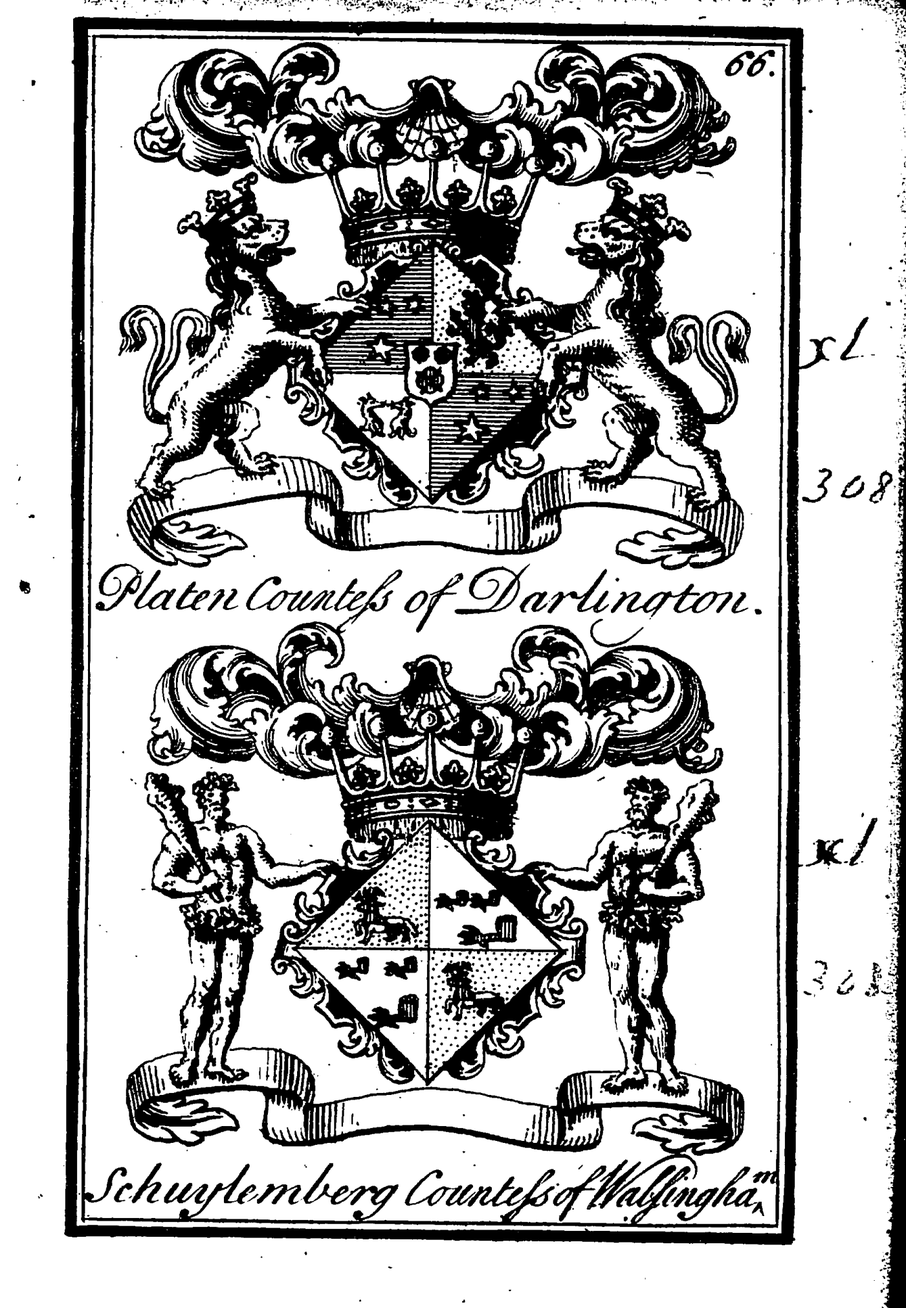coat_of_arms: (94, 38, 757, 628), (105, 632, 768, 1216)
